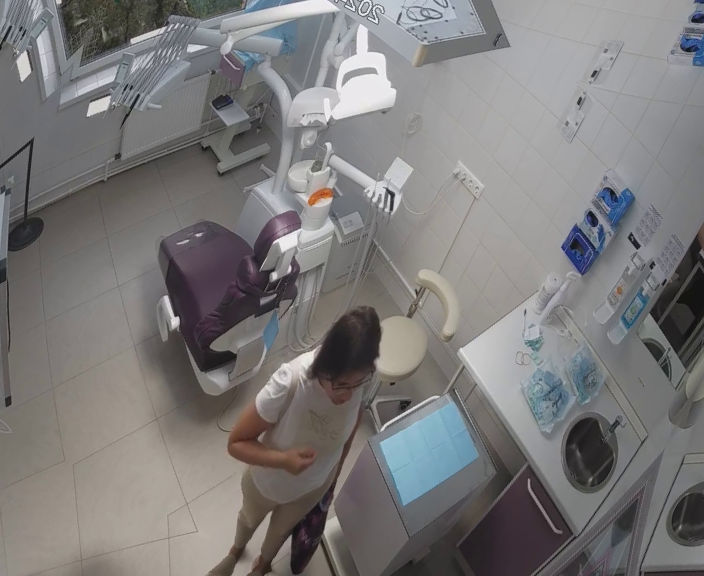Empty: (110, 158, 343, 413)
